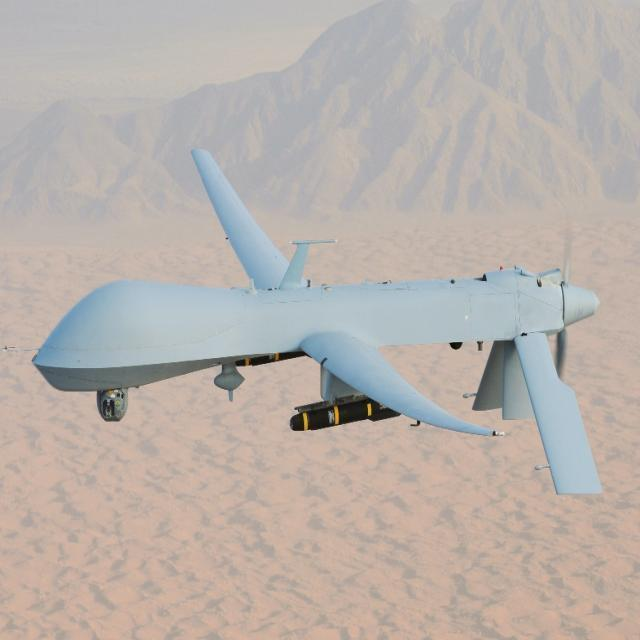iha: (26, 143, 607, 502)
